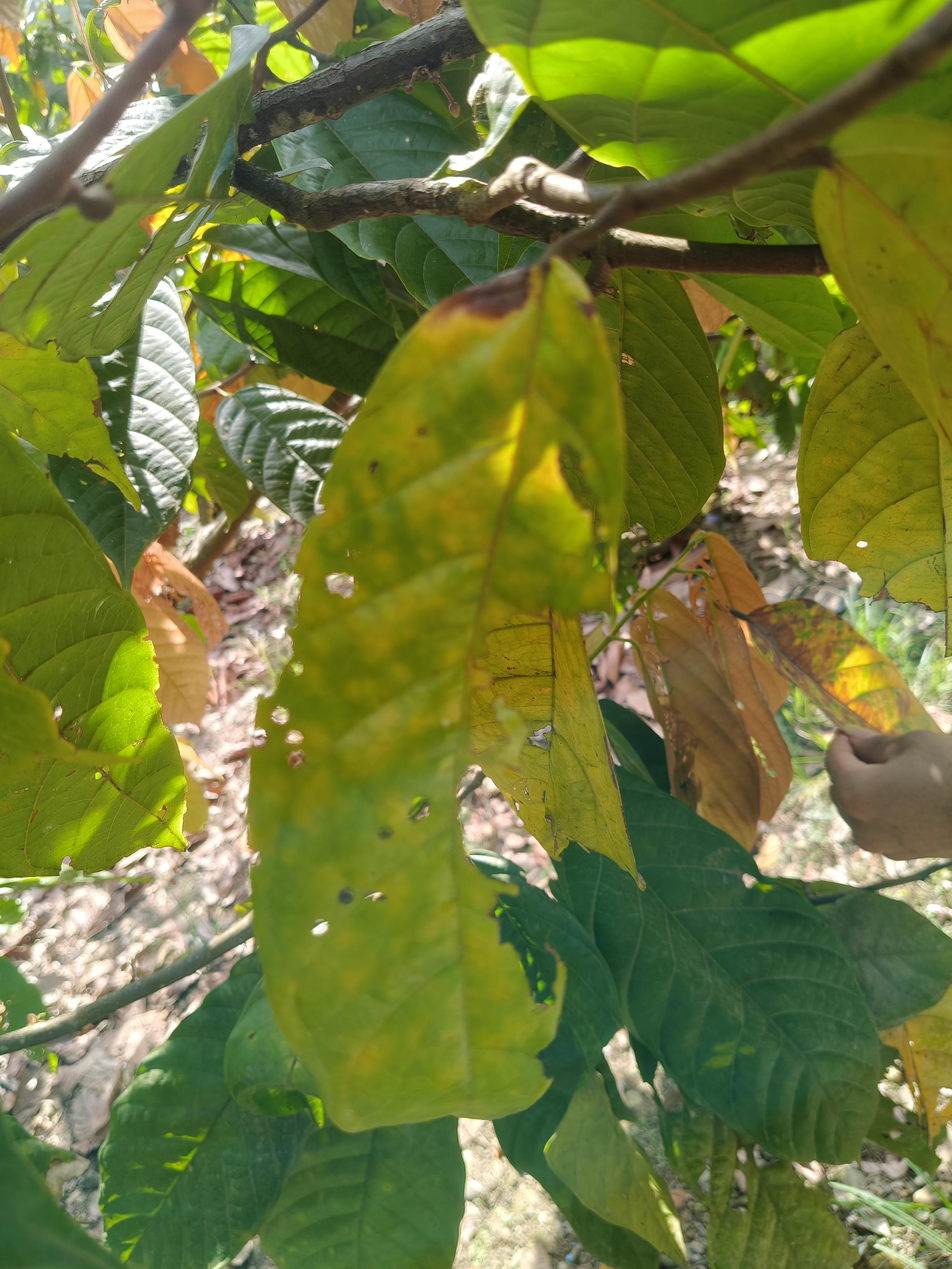deficiencia_potasio: (250, 248, 650, 1131)
